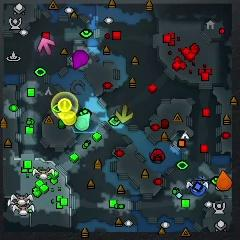Other: (59, 98, 72, 111)
p1: (190, 182, 206, 196)
p2: (75, 113, 92, 131)
p3: (72, 49, 89, 71)
p4: (57, 110, 75, 128)
p5: (215, 171, 232, 191)
x1: (38, 38, 55, 57)
x2: (116, 104, 134, 125)
